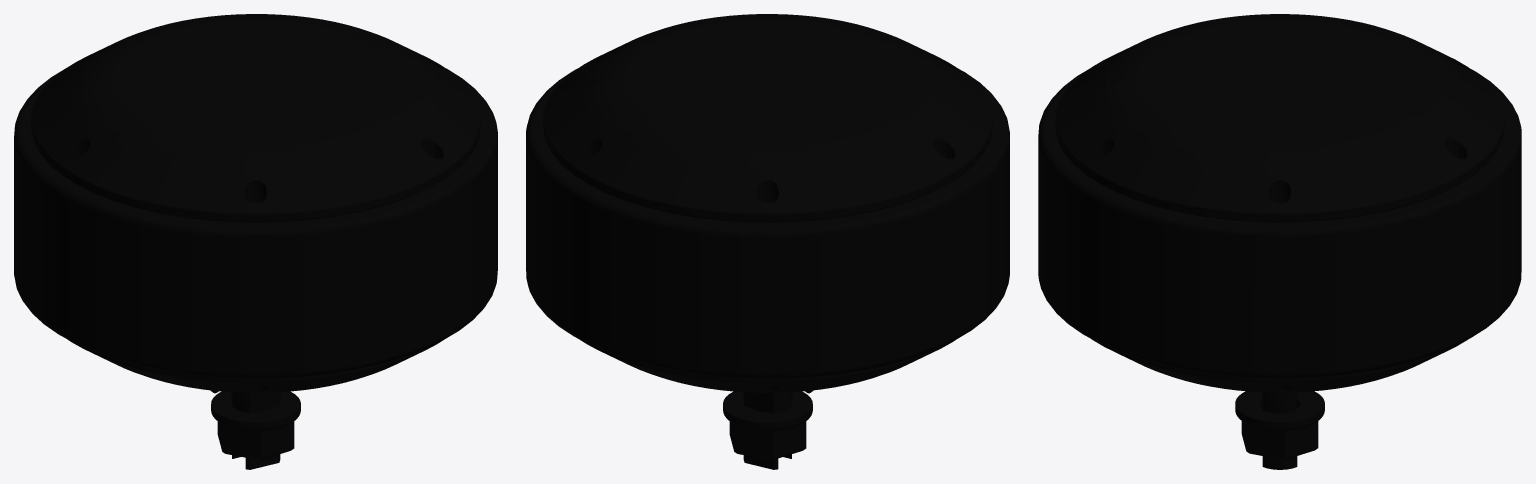
File: wheel_motor_link1.usd.sapien.glb
3 views of the same model, side by side, from view 1: azimuth 30°, elevation 25°; view 2: azimuth 150°, elevation 25°; view 3: azimuth 270°, elevation 25° (orthographic).
Parts seen in each view (by area): view 1: Mesh; view 2: Mesh; view 3: Mesh.
Part boxes in pixels (<box>): Mesh: <box>14,14,497,469</box>; Mesh: <box>526,14,1009,469</box>; Mesh: <box>1038,14,1521,469</box>.
Size of the model in its own units: 0.14 by 0.1209 by 0.1399.
Materials: 1 (1 with a texture image).
